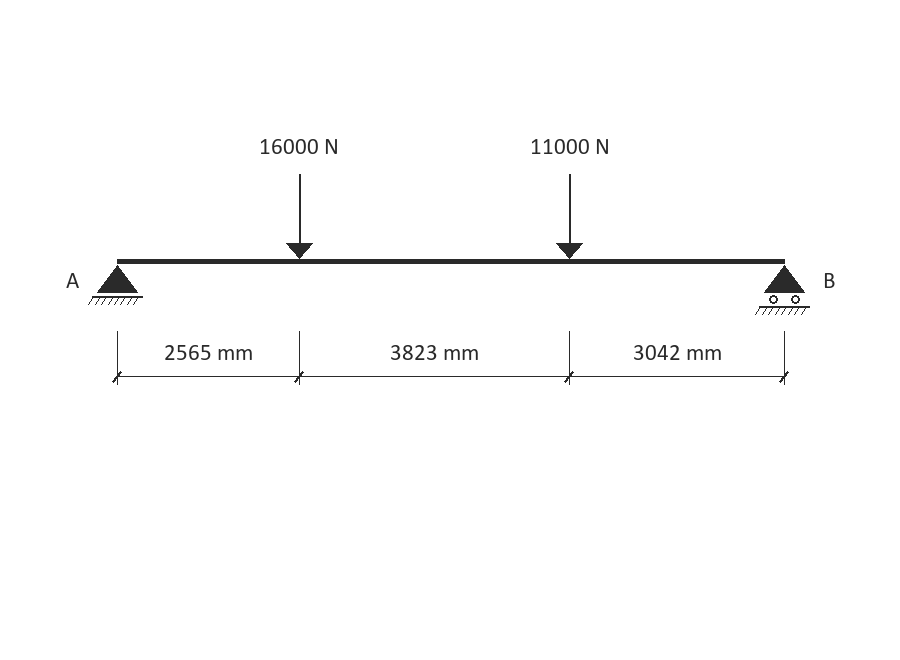pin_support: (88, 265, 143, 305)
point_load: (286, 174, 313, 259), (556, 174, 583, 259)
roller_support: (755, 265, 810, 315)
